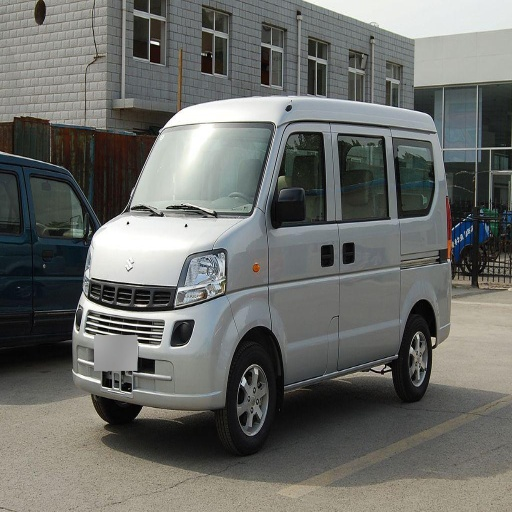front_bumper: (73, 279, 238, 412)
front_glass: (131, 123, 274, 215)
front_left_door: (270, 124, 340, 381)
trunk: (370, 223, 451, 353)
